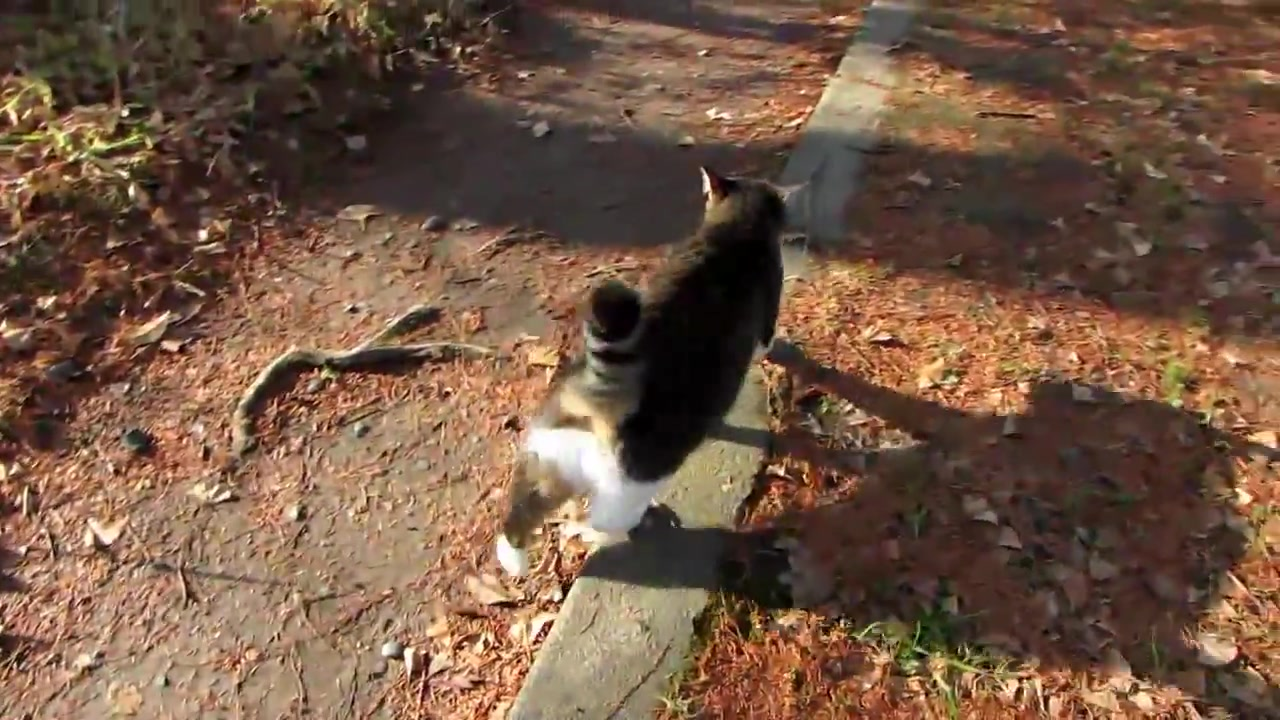cat: (498, 167, 806, 584)
